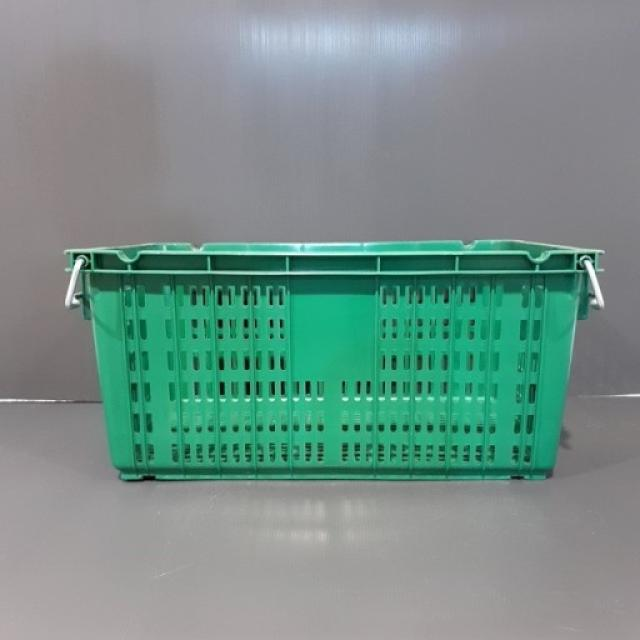basket: (65, 241, 605, 481)
